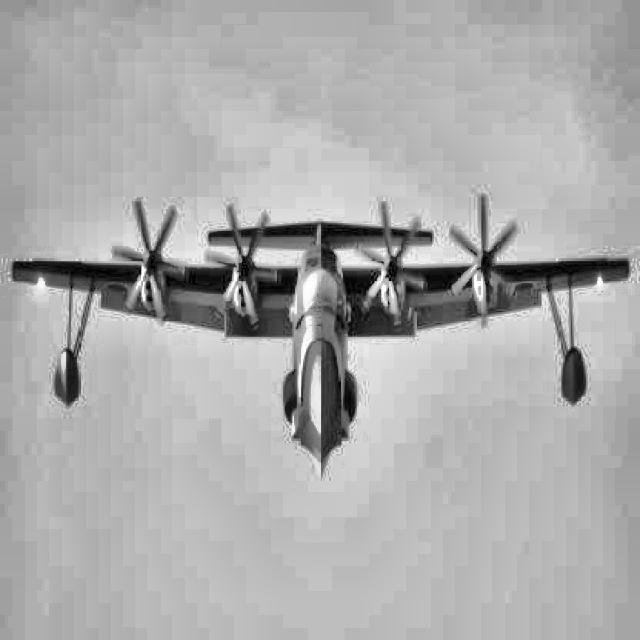US2: (11, 192, 631, 480)
